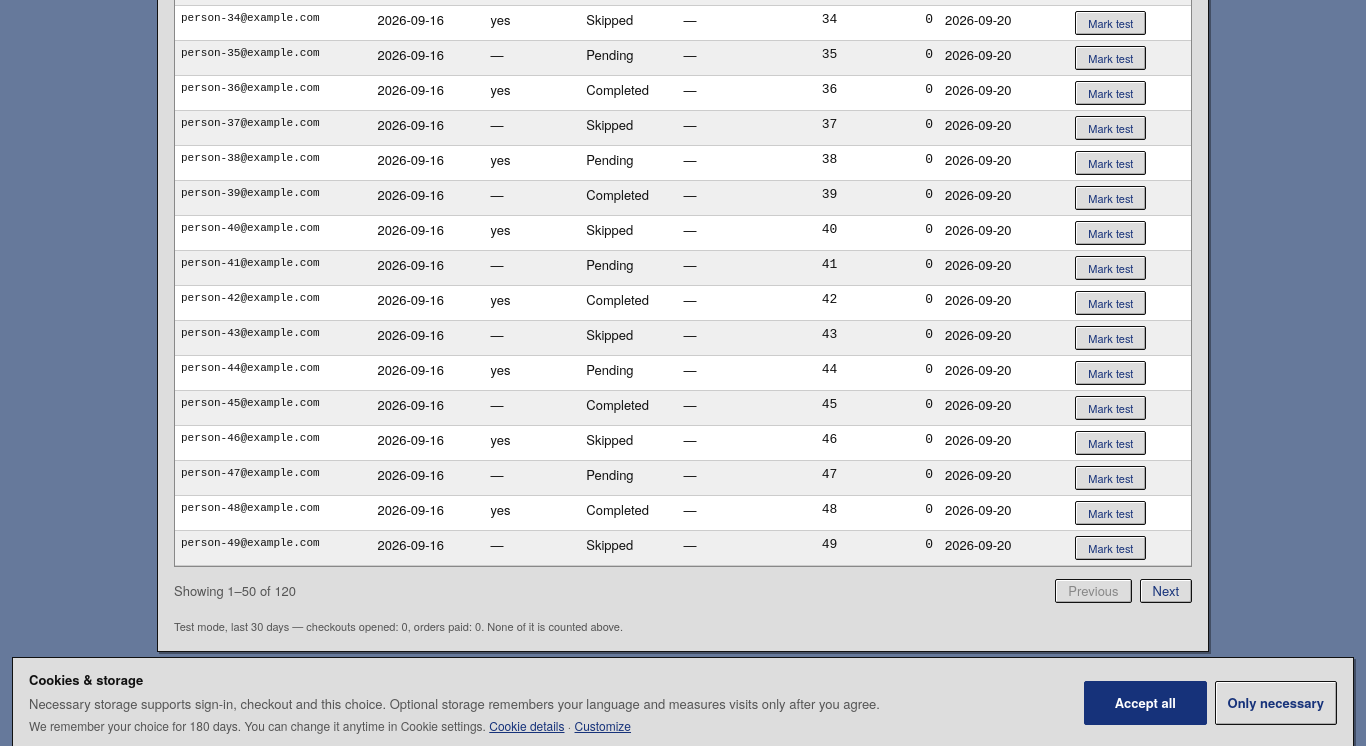
Test: owner dashboard accounts list › searches from page 1 with the query encoded, and clears back to every account
(page scrolled)
Click the button "Next" at (1166, 591), box [1140,579,1192,603]
(page scrolled)
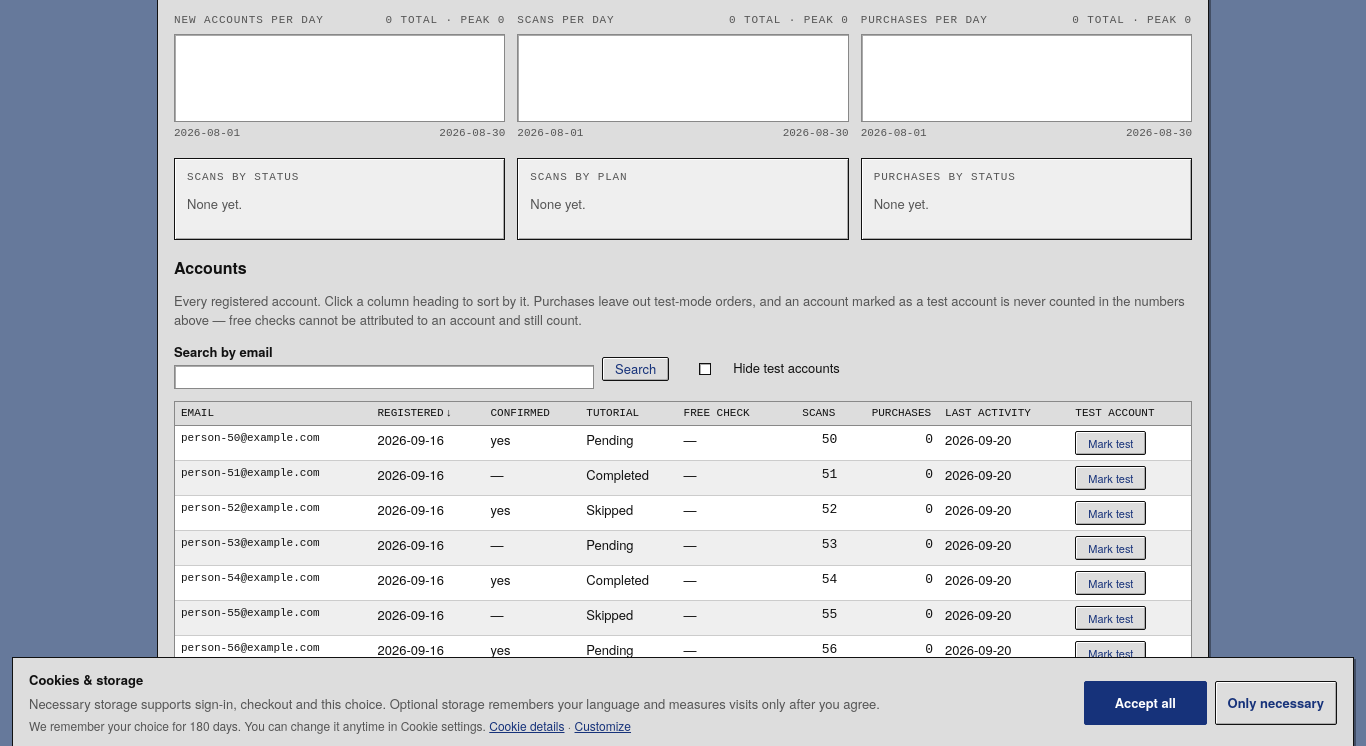
Now the text "person-50@example.com" is shown, box [175,426,372,461]
Type "  Buyer+x@Example.com " into the field labelled "Search by email" at (384, 377), box [174,365,594,389]
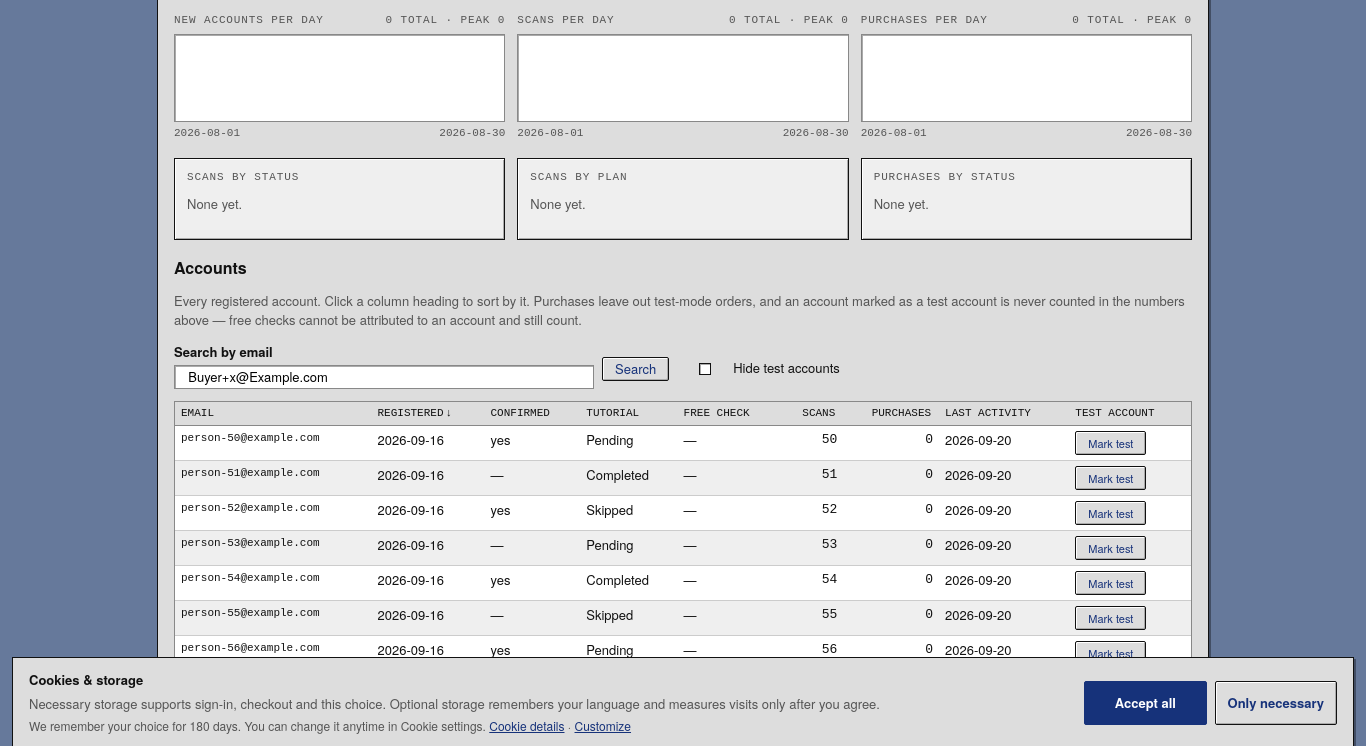
Submit the form labelled "Search by email", box [174,342,840,389]
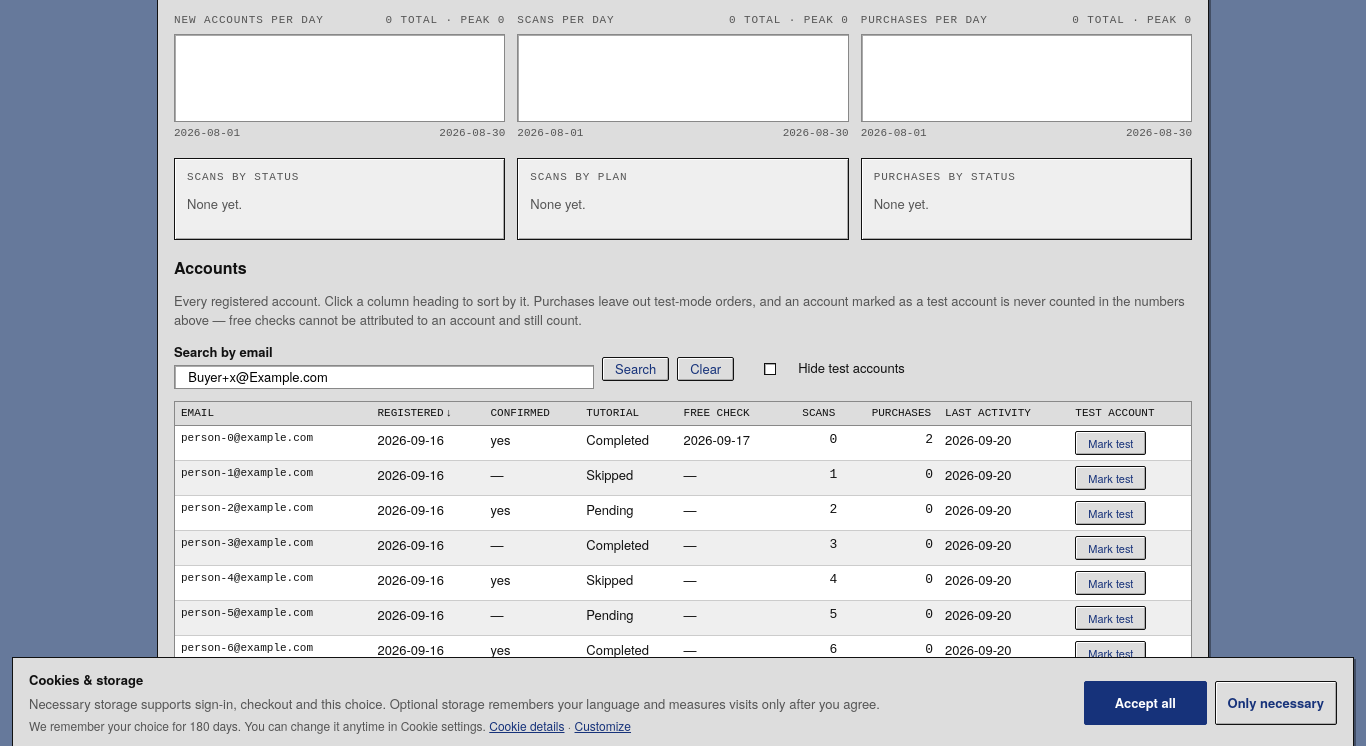
Click the button "Clear" at (706, 369), box [677,357,734,381]
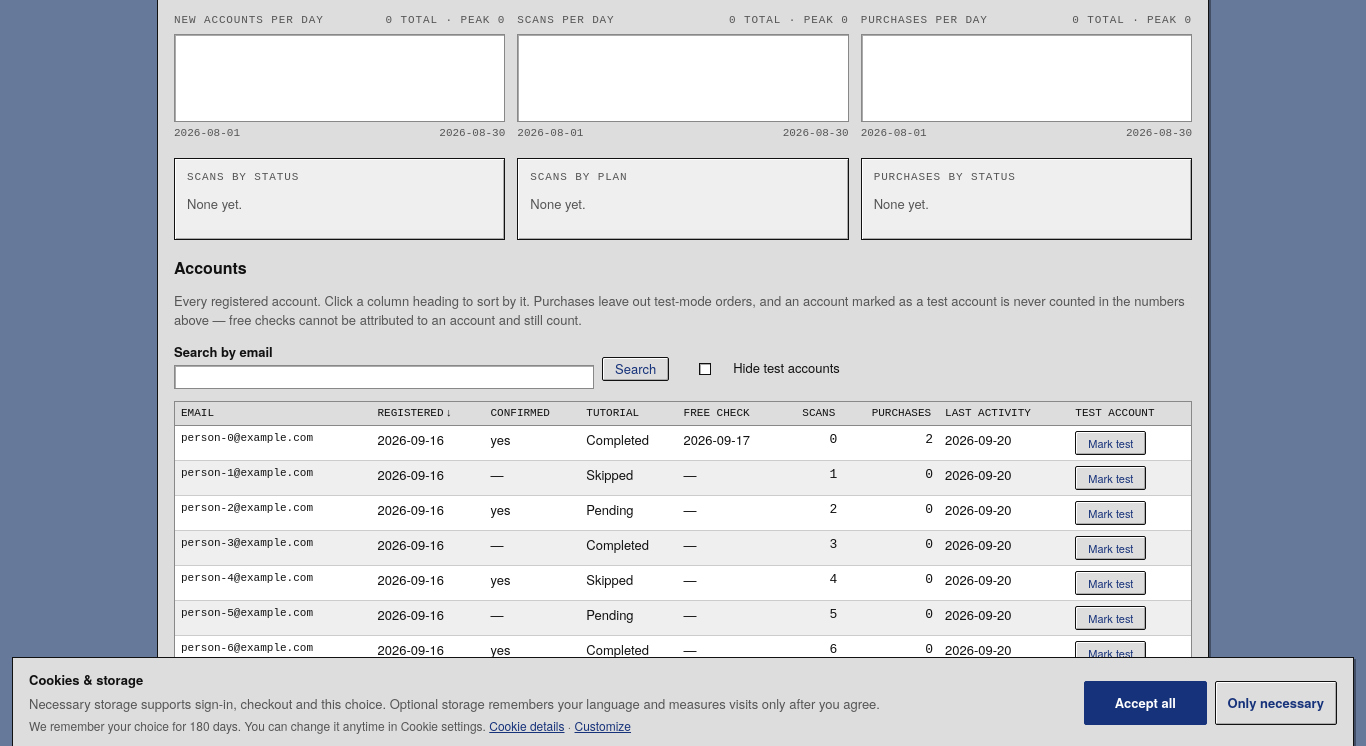
Now the field labelled "Search by email" is empty, box [174,365,594,389]
